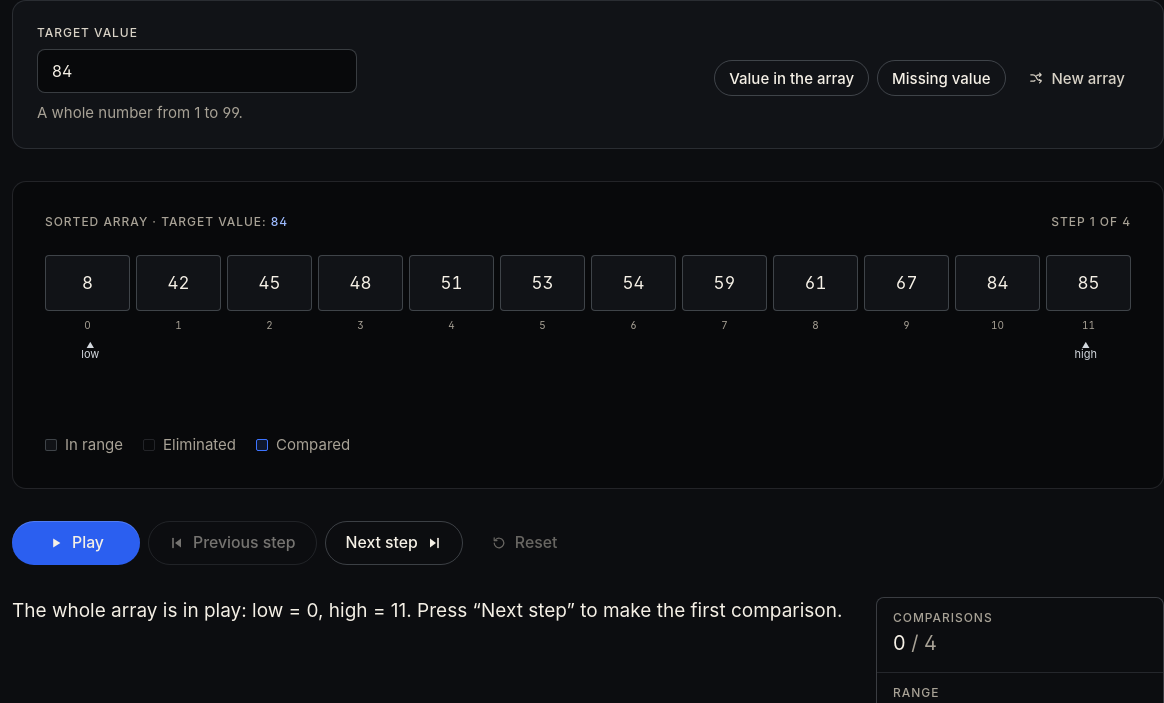
Test case: BinarySearchVisualizer › plays automatically, can pause, and resets
Click the button with test id "play-toggle": (76, 543) [12,521,140,565]
Wait 1300 ms
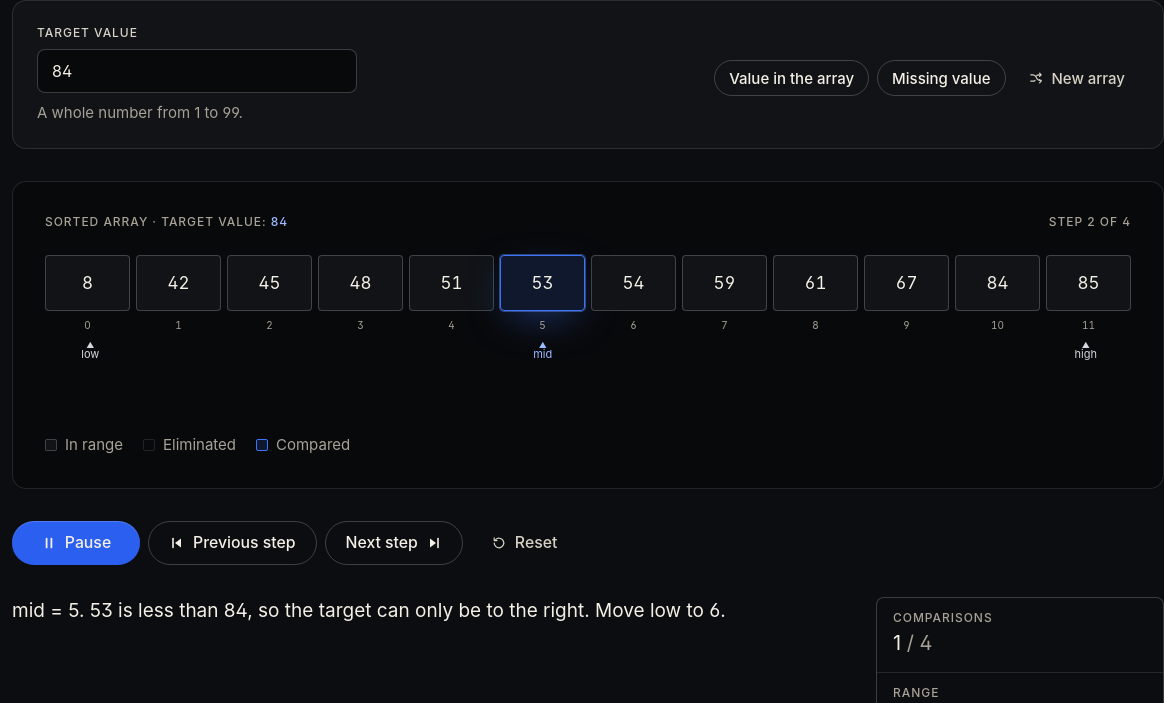
Check: the button with test id "play-toggle" reads "Pause"
Check: the text with test id "step-counter" shows "Step 2 of", box [1049,214,1131,229]
Click the button with test id "play-toggle": (76, 543) [12,521,140,565]
Wait 5000 ms
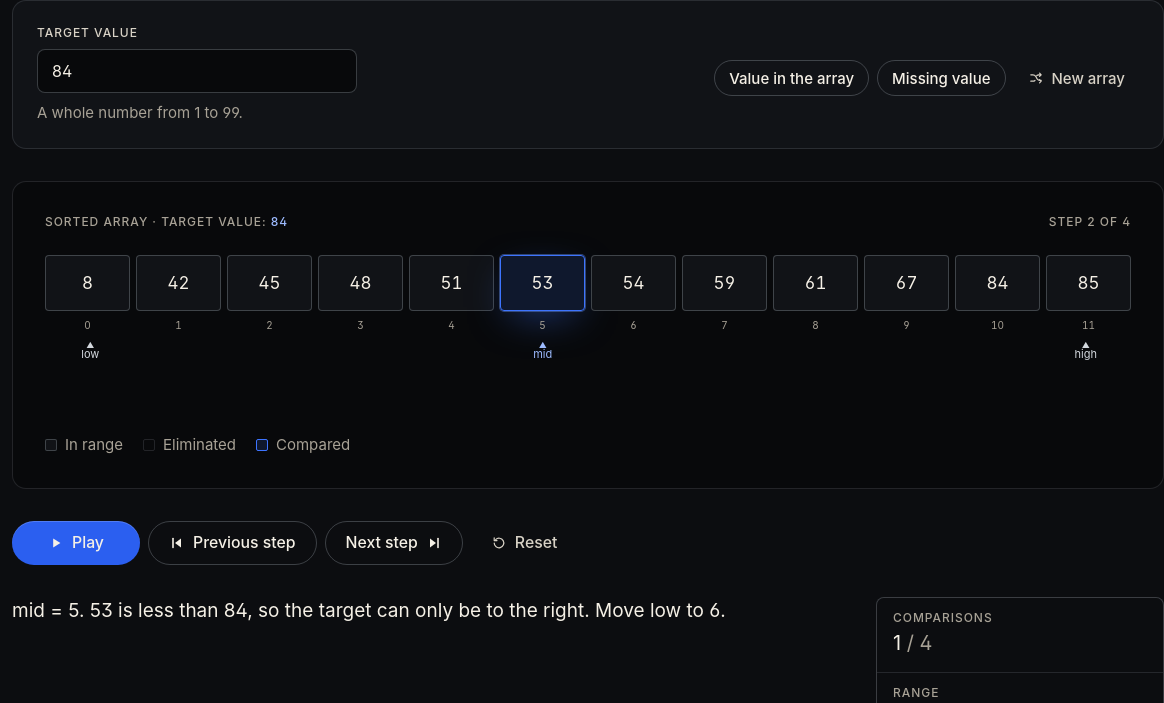
Check: the text with test id "step-counter" shows "Step 2 of", box [1049,214,1131,229]
Click the button with test id "reset": (524, 543) [471,521,577,565]
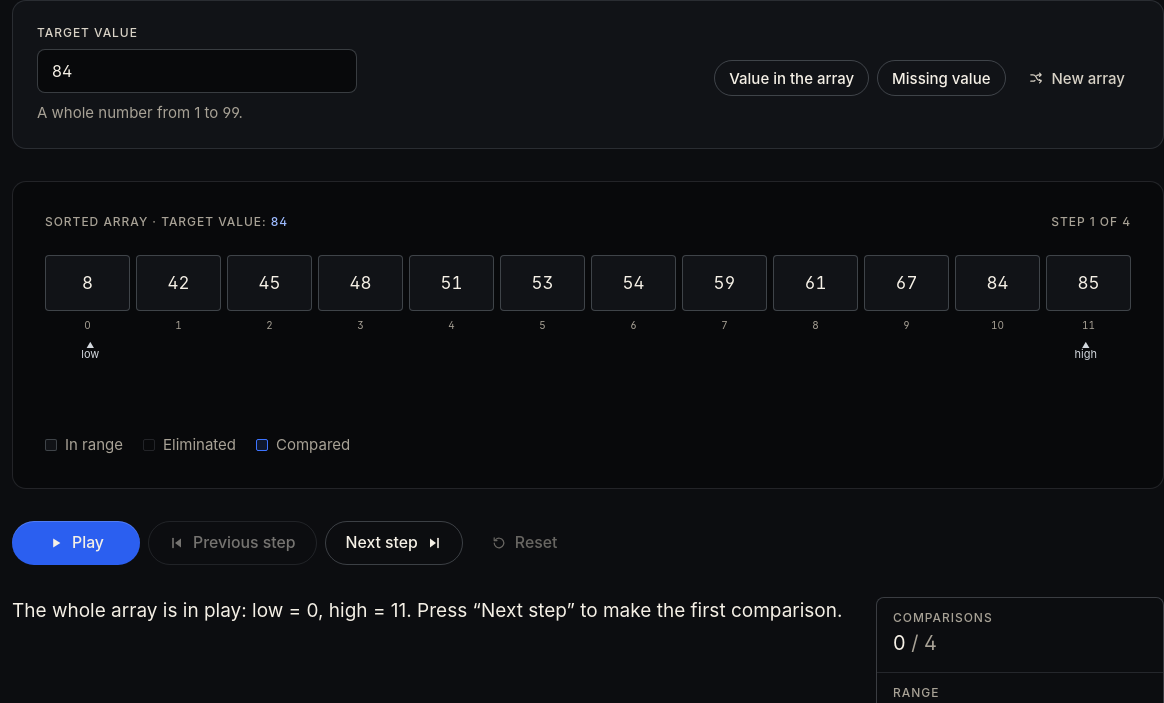
Check: the text with test id "step-counter" shows "Step 1 of", box [1051,214,1131,229]
